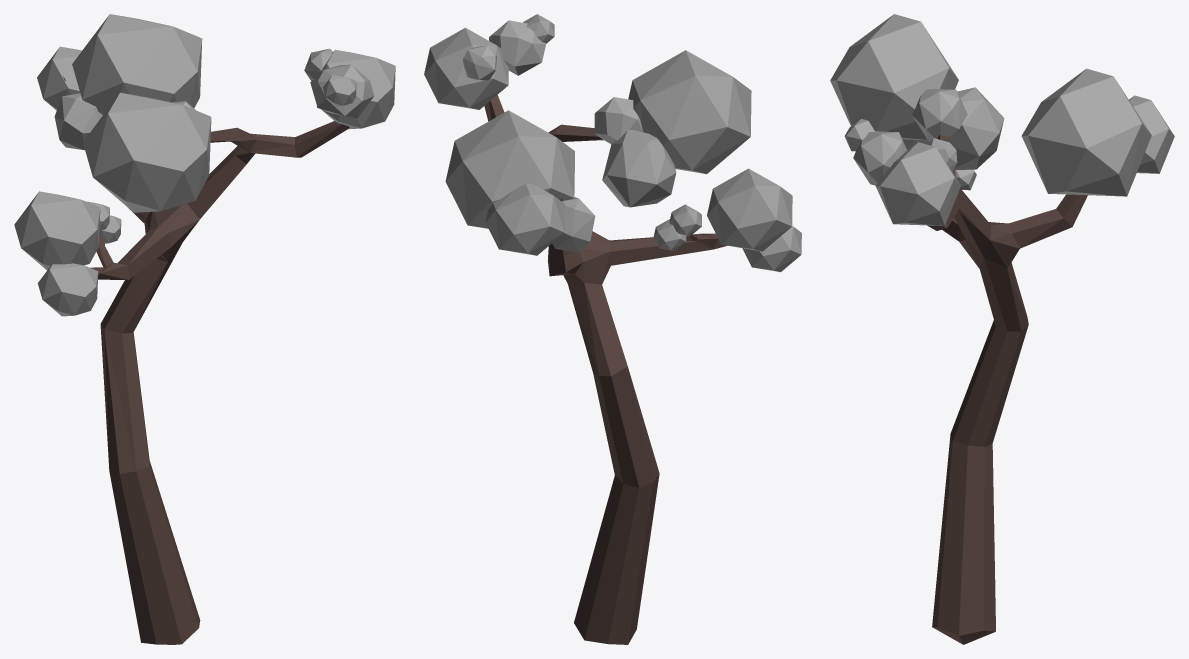
The model's file is purple.obj.
3 renders of one model, left to right at view 1: azimuth 30°, elevation 25°; view 2: azimuth 150°, elevation 25°; view 3: azimuth 270°, elevation 25°, orthographic. The views are drawn at different scales.
Parts seen in each view (by area): view 1: Cube, Icosphere, Icosphere.001, Icosphere.010, Icosphere.006, Icosphere.011, Icosphere.005, Icosphere.002, Icosphere.007, Icosphere.009; view 2: Cube, Icosphere, Icosphere.001, Icosphere.010, Icosphere.003, Icosphere.002, Icosphere.006, Icosphere.007, Icosphere.004, Icosphere.005, Icosphere.011, Icosphere.008 (+3 smaller); view 3: Cube, Icosphere.001, Icosphere, Icosphere.006, Icosphere.003, Icosphere.004, Icosphere.007, Icosphere.002, Icosphere.009.
Boxes of the visible parts, x1=… form: Cube: x1=63, y1=76, x2=349, y2=644; Icosphere: x1=83, y1=92, x2=211, y2=212; Icosphere.001: x1=72, y1=14, x2=202, y2=115; Icosphere.010: x1=14, y1=191, x2=100, y2=270; Icosphere.006: x1=310, y1=49, x2=395, y2=129; Icosphere.011: x1=37, y1=263, x2=98, y2=316; Icosphere.005: x1=54, y1=93, x2=102, y2=150; Icosphere.002: x1=37, y1=46, x2=81, y2=110; Icosphere.007: x1=317, y1=64, x2=374, y2=118; Icosphere.009: x1=323, y1=74, x2=356, y2=106; Cube: x1=484, y1=95, x2=727, y2=644; Icosphere: x1=628, y1=50, x2=751, y2=174; Icosphere.001: x1=445, y1=110, x2=574, y2=228; Icosphere.010: x1=707, y1=168, x2=792, y2=251; Icosphere.003: x1=602, y1=130, x2=676, y2=207; Icosphere.002: x1=485, y1=183, x2=564, y2=255; Icosphere.006: x1=424, y1=27, x2=508, y2=109; Icosphere.007: x1=489, y1=20, x2=545, y2=75; Icosphere.004: x1=594, y1=97, x2=643, y2=143; Icosphere.005: x1=552, y1=197, x2=595, y2=252; Icosphere.011: x1=742, y1=226, x2=801, y2=272; Icosphere.008: x1=463, y1=45, x2=496, y2=80; Cube: x1=927, y1=135, x2=1087, y2=644; Icosphere.001: x1=1021, y1=68, x2=1151, y2=196; Icosphere: x1=830, y1=14, x2=958, y2=140; Icosphere.006: x1=875, y1=142, x2=960, y2=225; Icosphere.003: x1=929, y1=87, x2=1004, y2=169; Icosphere.004: x1=912, y1=89, x2=967, y2=140; Icosphere.007: x1=853, y1=131, x2=906, y2=185; Icosphere.002: x1=1129, y1=95, x2=1174, y2=173; Icosphere.009: x1=844, y1=119, x2=875, y2=151.
Size of the model in its own units: 4.42 by 6.63 by 3.53.
